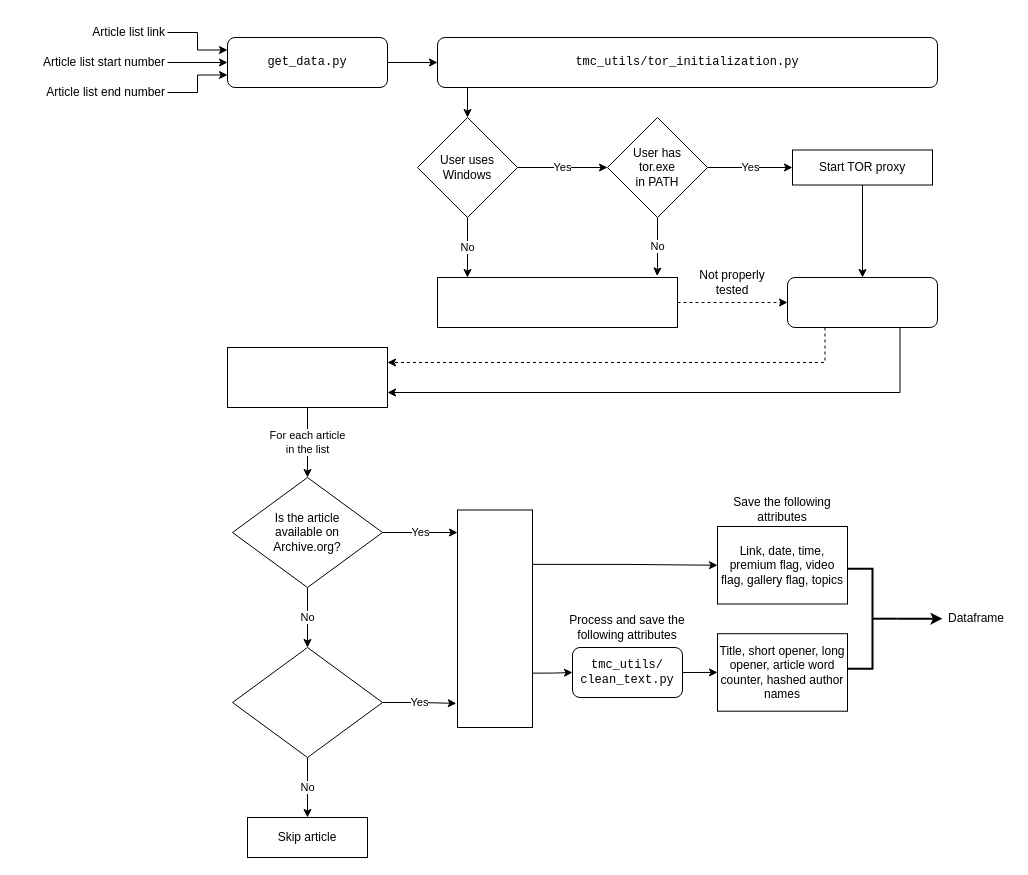
Some shapes in this 1028 by 875 pixel diagram are drawn without their labels. Each missing label, with the box of its shape:
Is the article available on Google Webcache?: (232, 646, 382, 758)
Request and parse article lists directly from the source website: (226, 346, 388, 408)
Request the article: (456, 509, 532, 728)
tmc_utils/ article_scraper.py: (786, 276, 938, 328)
Warns the user and provides the ability to use no proxy: (436, 276, 678, 328)
